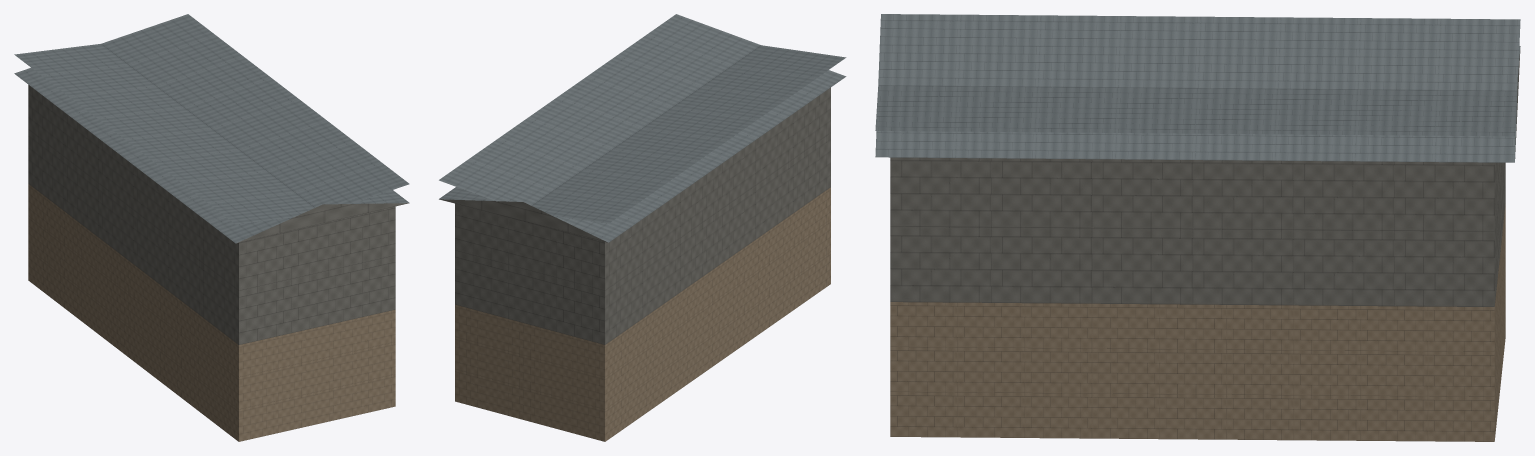
Rendered from bld_c33_-38_447.gltf.
3 renders of one model, left to right at view 1: azimuth 30°, elevation 25°; view 2: azimuth 150°, elevation 25°; view 3: azimuth 270°, elevation 25°, orthographic. The views are drawn at different scales.
Parts seen in each view (by area): view 1: bld_c33_-38_447; view 2: bld_c33_-38_447; view 3: bld_c33_-38_447.
Boxes of the visible parts, x1,y1,x2,y2 form: bld_c33_-38_447: (14, 14, 409, 441); bld_c33_-38_447: (439, 14, 846, 441); bld_c33_-38_447: (875, 14, 1520, 441).
Size of the model in its own units: 9.93 by 11.8 by 22.11.
4 materials, 4 textured.
